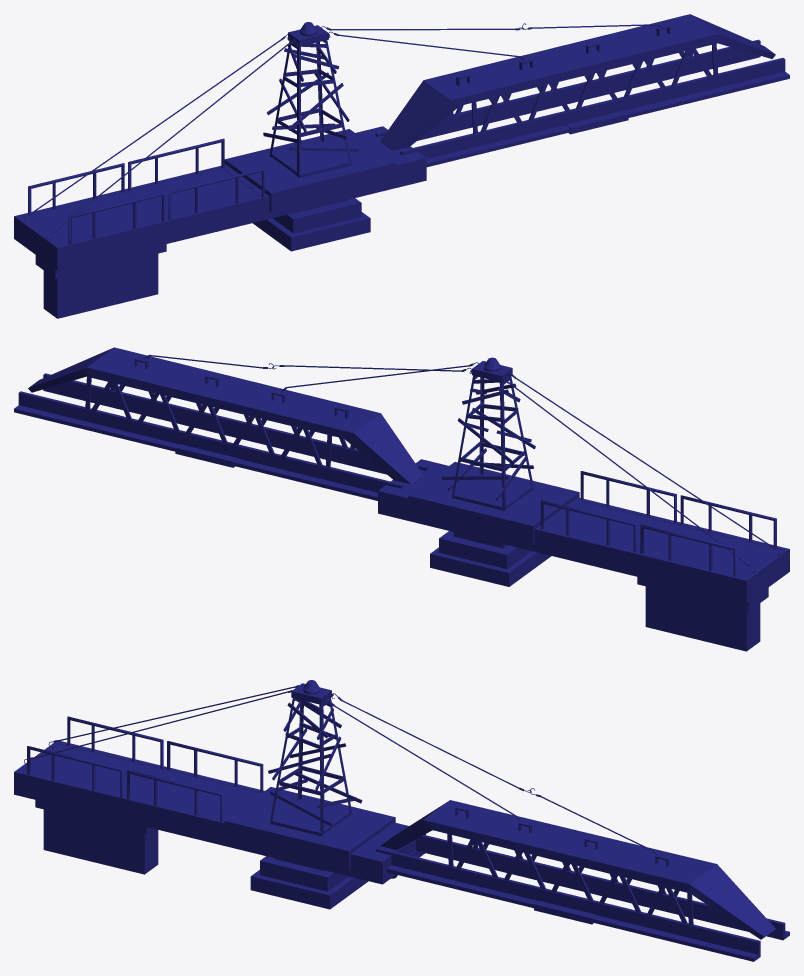
File: TOP_final_v1.FBX
3 views of the same model, one above another, from view 1: azimuth 30°, elevation 25°; view 2: azimuth 150°, elevation 25°; view 3: azimuth 330°, elevation 25° (orthographic).
Visible parts, largest first — view 1: Object221; view 2: Object221; view 3: Object221.
Boxes of the visible parts, box(x1,y1,x2,y2) form: Object221: box(14, 14, 789, 318); Object221: box(14, 347, 789, 651); Object221: box(14, 680, 789, 961).
Bounding box in the file's own units: 574 × 168 × 63.82.
